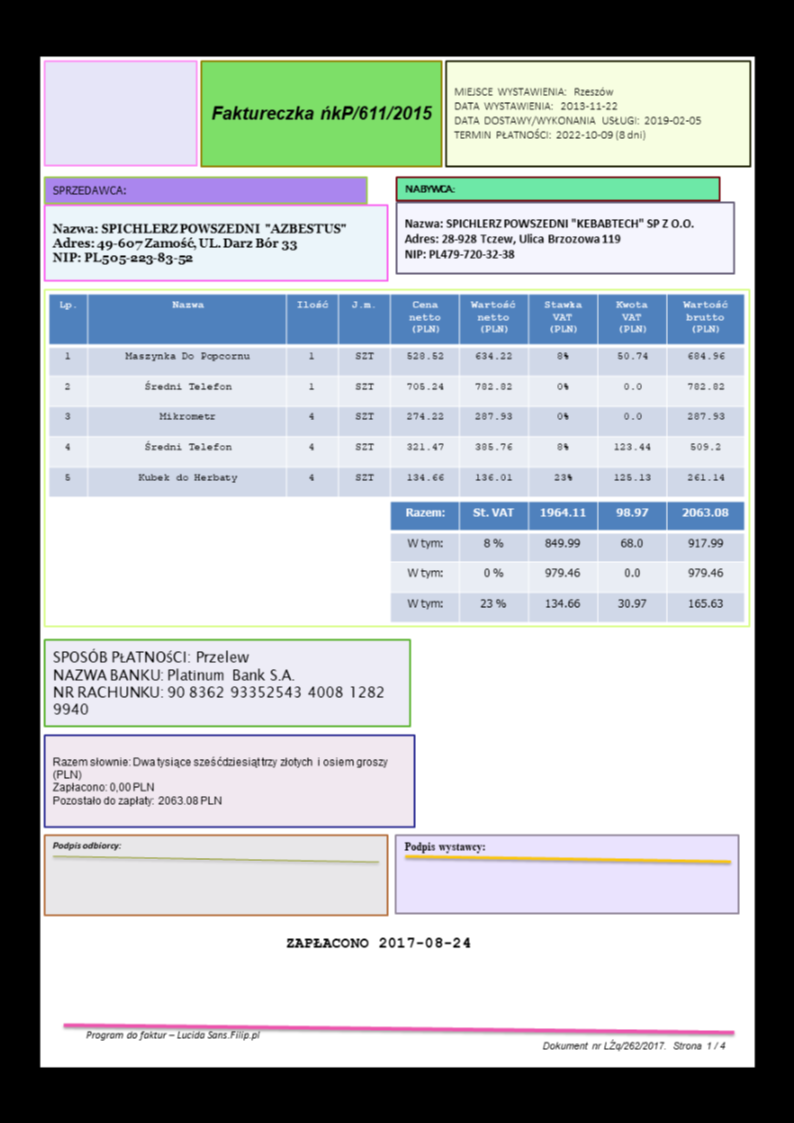Table: (46, 291, 746, 499), (386, 498, 747, 623)
TextBox: (49, 644, 390, 719), (49, 752, 394, 809), (450, 80, 708, 144), (49, 216, 348, 269), (401, 212, 699, 265), (208, 98, 435, 126), (536, 1034, 730, 1057), (283, 933, 474, 953), (80, 1025, 264, 1044), (400, 836, 488, 859), (45, 835, 122, 856), (47, 179, 127, 199), (401, 179, 456, 197)
